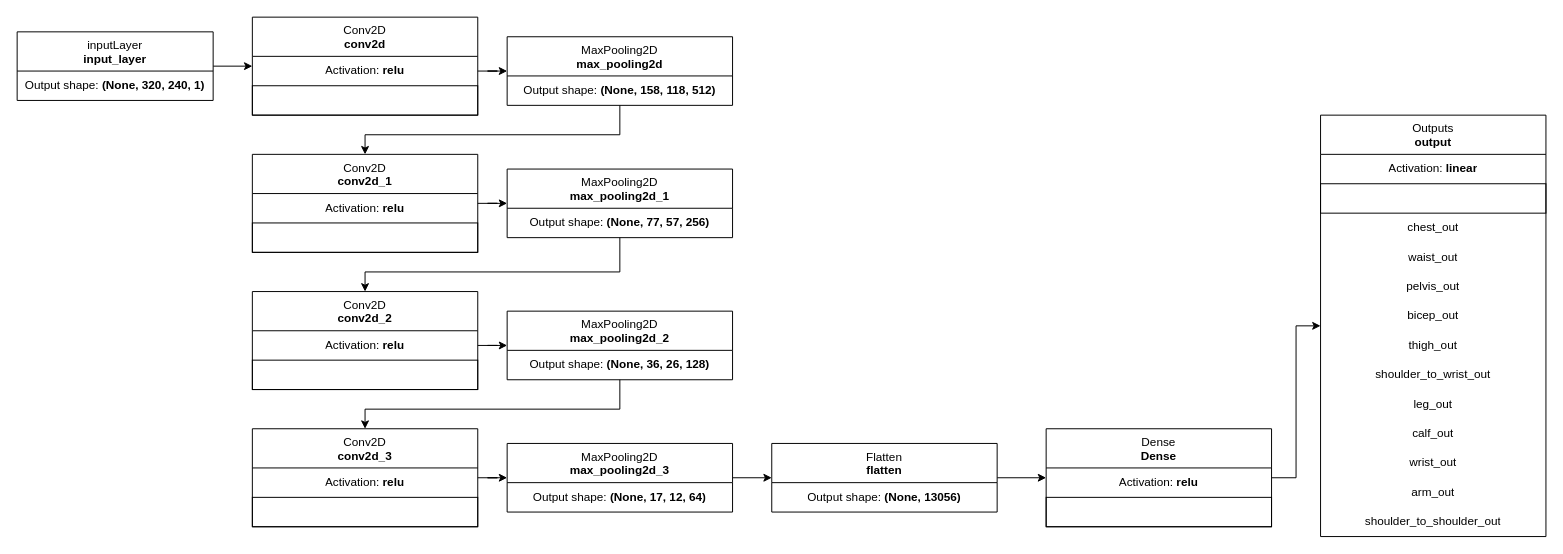
Some shapes in this 1563 by 554 pixel diagram are drawn without their labels. The shapes that lost their labels are listed below. From the top down, each one's centre as x and y in pixels, then its label:
At [364,100]: "Output shape: (None, 316, 236, 512)".
At [1433,198]: "Output shape: (None, 1)".
At [364,237]: "Output shape: (None, 154, 114, 256)".
At [364,374]: "Output shape: (None, 73, 53, 128)".
At [364,511]: "Output shape: (None, 34, 24, 64)".
At [1158,511]: "Output shape: (None, 128)".
